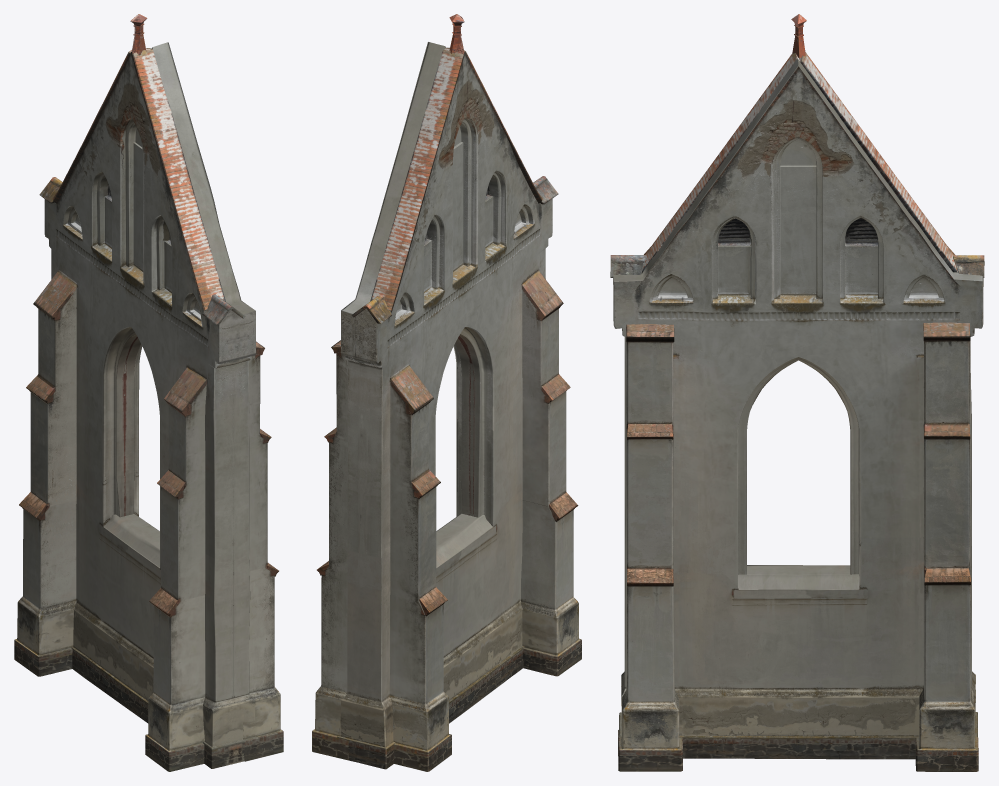
Rendered from sm_Church_01_18.fbx.
The picture shows the model from 3 angles, left to right: view 1: azimuth 30°, elevation 25°; view 2: azimuth 150°, elevation 25°; view 3: azimuth 270°, elevation 25°; orthographic projection. The views are drawn at different scales.
Visible parts, largest first — view 1: sm_Church_01_18_LOD0; view 2: sm_Church_01_18_LOD0; view 3: sm_Church_01_18_LOD0.
Boxes of the visible parts, box(x1,y1,x2,y2) form: sm_Church_01_18_LOD0: box(14, 14, 283, 771); sm_Church_01_18_LOD0: box(312, 14, 581, 771); sm_Church_01_18_LOD0: box(610, 14, 984, 771).
Bounding box in the file's own units: 223 × 630 × 1350.
